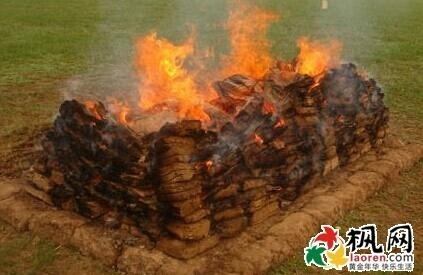fire: (114, 28, 218, 126), (283, 33, 346, 82), (252, 100, 288, 147), (81, 97, 103, 121)
